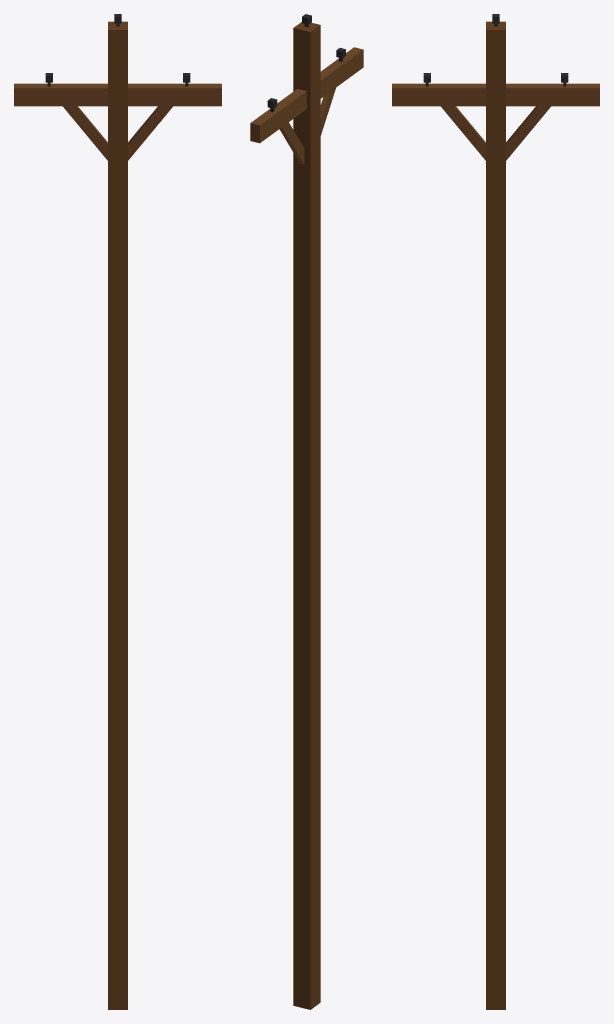
The model's file is PowerLines_01.fbx.
3 views of the same model, side by side, from view 1: azimuth 90°, elevation 25°; view 2: azimuth 150°, elevation 25°; view 3: azimuth 270°, elevation 25° (orthographic).
Parts seen in each view (by area): view 1: PowerLines_01; view 2: PowerLines_01; view 3: PowerLines_01.
Boxes of the visible parts, x1,y1,x2,y2 form: PowerLines_01: (14,14,221,1009); PowerLines_01: (250,14,363,1009); PowerLines_01: (392,14,599,1009).
Size of the model in its own units: 10 by 551 by 105.
